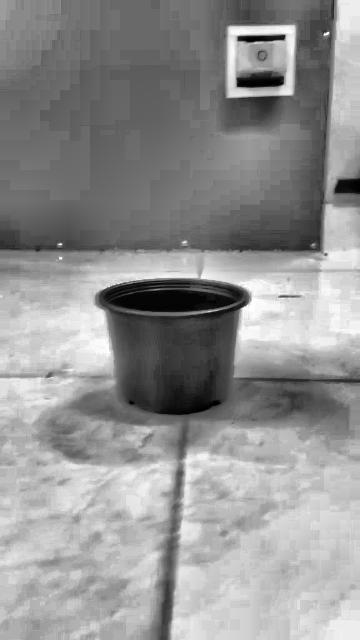pot: (98, 278, 248, 414)
